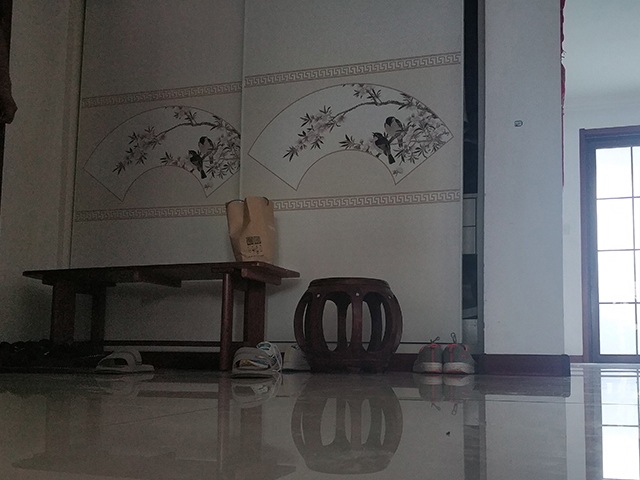slippers: (93, 346, 156, 376), (228, 345, 277, 381)
stool: (25, 259, 302, 373), (292, 275, 405, 375)
